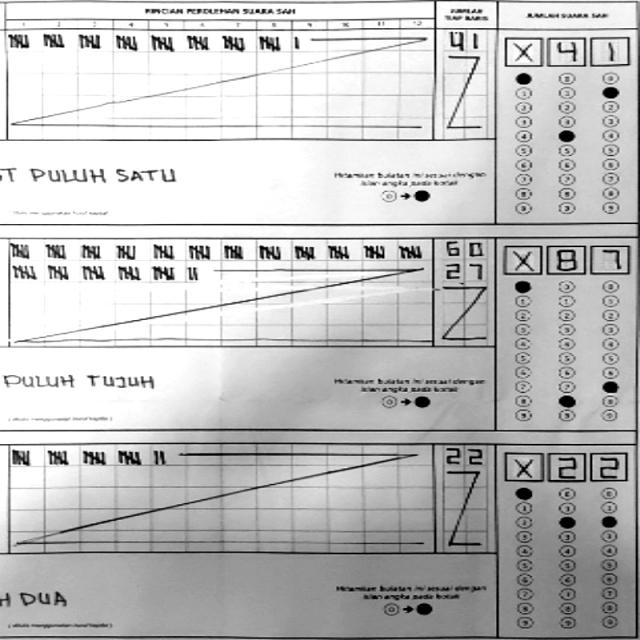Suara: (501, 31, 633, 70), (501, 446, 633, 485), (498, 240, 630, 278)
